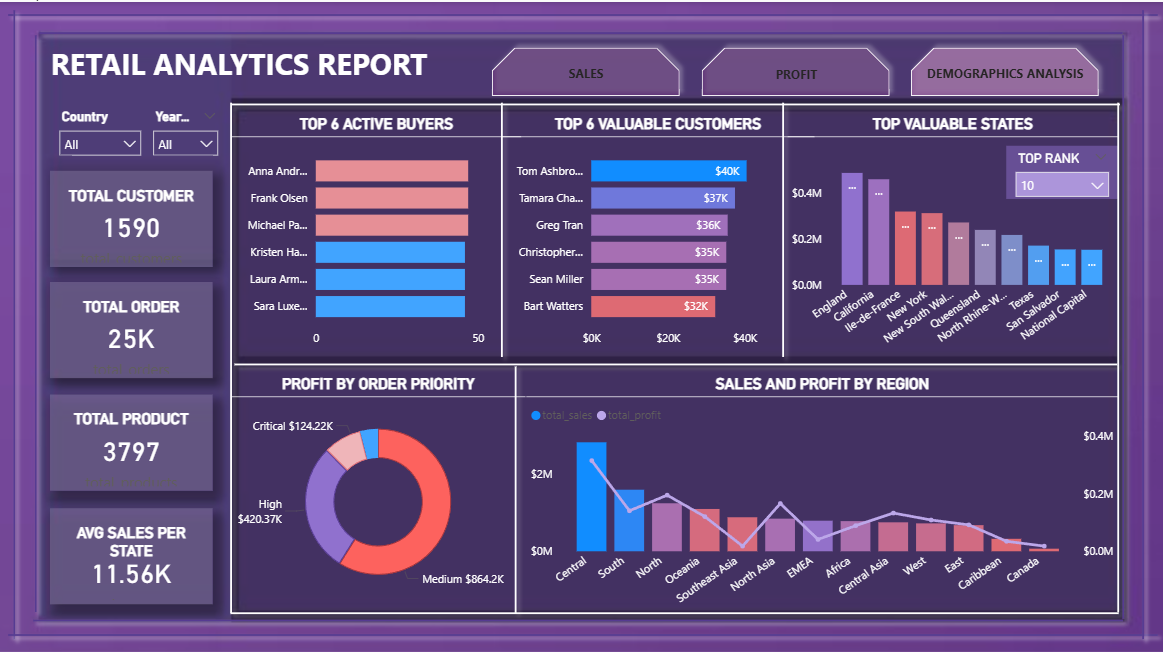

The page's visual inventory and layout, read from the dashboard file:
{"tool":"powerbi","page":{"name":"DEMOGRAPHICS","canvas":[1280,720],"ordinal":2},"visuals":[{"type":"pageNavigator","box":[531.4,41.4,685.7,71.4],"z":0},{"type":"textbox","box":[550,64.3,190,35.7],"z":1000},{"type":"textbox","box":[780,65.7,190,35.7],"z":2000},{"type":"textbox","box":[1008.6,64.3,190,35.7],"z":3000},{"type":"card","title":"TOTAL CUSTOMER","fields":{"Values":["Calculated_Table.total_customers"]},"box":[54.3,185.7,178.6,105.7],"z":4000},{"type":"card","title":"TOTAL ORDER","fields":{"Values":["Calculated_Table.total_orders"]},"box":[54.3,307.1,178.6,105.7],"z":5000},{"type":"card","title":"TOTAL PRODUCT","fields":{"Values":["Calculated_Table.total_products"]},"box":[54.3,431.4,178.6,105.7],"z":6000},{"type":"card","title":"AVG SALES PER STATE","fields":{"Values":["Calculated_Table.avg_sales_per_state"]},"box":[54.3,555.7,178.6,105.7],"z":7000},{"type":"clusteredBarChart","title":"TOP 6 VALUABLE CUSTOMERS","fields":{"Y":["Calculated_Table.total_sales"],"Category":["customer_table.Customer Name"]},"box":[550,122.9,344.3,262.9],"z":8000},{"type":"donutChart","title":"PROFIT BY ORDER PRIORITY","fields":{"Category":["sales_table.Order Priority"],"Y":["Calculated_Table.total_profit"]},"box":[254.3,408.6,322.9,252.9],"z":9000},{"type":"lineClusteredColumnComboChart","title":"SALES AND PROFIT BY REGION","fields":{"Category":["location_table.Region"],"Y":["Calculated_Table.total_sales"],"Y2":["Calculated_Table.total_profit"]},"box":[577.1,408.6,650,262.9],"z":10000},{"type":"slicer","fields":{"Values":["date_table.Date.Variation.Date Hierarchy.Year","date_table.Date.Variation.Date Hierarchy.Month"]},"box":[157.1,112.9,91.4,55.7],"z":11000},{"type":"slicer","fields":{"Values":["location_table.Country"]},"box":[54.3,112.9,110,55.7],"z":12000},{"type":"textbox","box":[51.4,41.4,480,90],"z":13000},{"type":"clusteredBarChart","title":"TOP 6 ACTIVE BUYERS","fields":{"Y":["Calculated_Table.top_active_buyers"],"Category":["customer_table.Customer Name"]},"box":[254.3,122.9,318.6,262.9],"z":14000},{"type":"slicer","fields":{"Values":["rank_values.Value"]},"box":[1104.3,157.1,122.9,58.6],"z":15000},{"type":"clusteredColumnChart","title":"TOP VALUABLE STATES","fields":{"Y":["Calculated_Table.total_sales"],"Category":["location_table.State"]},"box":[864.3,122.9,362.9,262.9],"z":16000},{"type":"shape","box":[0,0,1280,28.6],"z":17000},{"type":"shape","box":[0,0,31.4,708.6],"z":18000},{"type":"shape","box":[0,680,1280,28.6],"z":19000},{"type":"shape","box":[1238.6,0,31.4,708.6],"z":20000},{"type":"shape","box":[224.3,101.4,60,578.6],"z":21000},{"type":"shape","box":[244.3,654.3,992.9,32.9],"z":22000},{"type":"shape","box":[531.4,391.4,70,288.6],"z":23000},{"type":"shape","box":[1207.1,101.4,40,577.1],"z":24000},{"type":"shape","box":[245.7,95.7,992.9,32.9],"z":25000},{"type":"shape","box":[515.7,101.4,70,297.1],"z":26000},{"type":"shape","box":[824.3,101.4,70,297.1],"z":27000},{"type":"shape","box":[248.6,381.4,987.1,32.9],"z":28000},{"type":"shape","box":[0,27.1,78.6,651.4],"z":29000},{"type":"shape","box":[34.3,4.3,1207.1,60],"z":30000},{"type":"shape","box":[1194.3,27.1,78.6,658.6],"z":31000},{"type":"shape","box":[27.1,648.6,1214.3,60],"z":32000}]}

Visuals, with their boxes in screenshot pixels (x1, y1, x2, y2), scaled from the page's 1280x720 canvas onto the 1163x652 screenshot:
pageNavigator: box=[483, 37, 1106, 102]
textbox: box=[500, 58, 672, 91]
textbox: box=[709, 59, 881, 92]
textbox: box=[916, 58, 1089, 91]
"TOTAL CUSTOMER" card: box=[49, 168, 212, 264]
"TOTAL ORDER" card: box=[49, 278, 212, 374]
"TOTAL PRODUCT" card: box=[49, 391, 212, 486]
"AVG SALES PER STATE" card: box=[49, 503, 212, 599]
"TOP 6 VALUABLE CUSTOMERS" clusteredBarChart: box=[500, 111, 813, 349]
"PROFIT BY ORDER PRIORITY" donutChart: box=[231, 370, 524, 599]
"SALES AND PROFIT BY REGION" lineClusteredColumnComboChart: box=[524, 370, 1115, 608]
slicer - date_table.Date.Variation.Date Hierarchy.Year x date_table.Date.Variation.Date Hierarchy.Month: box=[143, 102, 226, 153]
slicer - location_table.Country: box=[49, 102, 149, 153]
textbox: box=[47, 37, 483, 119]
"TOP 6 ACTIVE BUYERS" clusteredBarChart: box=[231, 111, 521, 349]
slicer - rank_values.Value: box=[1003, 142, 1115, 195]
"TOP VALUABLE STATES" clusteredColumnChart: box=[785, 111, 1115, 349]
shape: box=[0, 0, 1162, 26]
shape: box=[0, 0, 29, 642]
shape: box=[0, 616, 1162, 642]
shape: box=[1125, 0, 1154, 642]
shape: box=[204, 92, 258, 616]
shape: box=[222, 593, 1124, 622]
shape: box=[483, 354, 546, 616]
shape: box=[1097, 92, 1133, 614]
shape: box=[223, 87, 1125, 116]
shape: box=[469, 92, 532, 361]
shape: box=[749, 92, 813, 361]
shape: box=[226, 345, 1123, 375]
shape: box=[0, 25, 71, 614]
shape: box=[31, 4, 1128, 58]
shape: box=[1085, 25, 1157, 621]
shape: box=[25, 587, 1128, 642]
